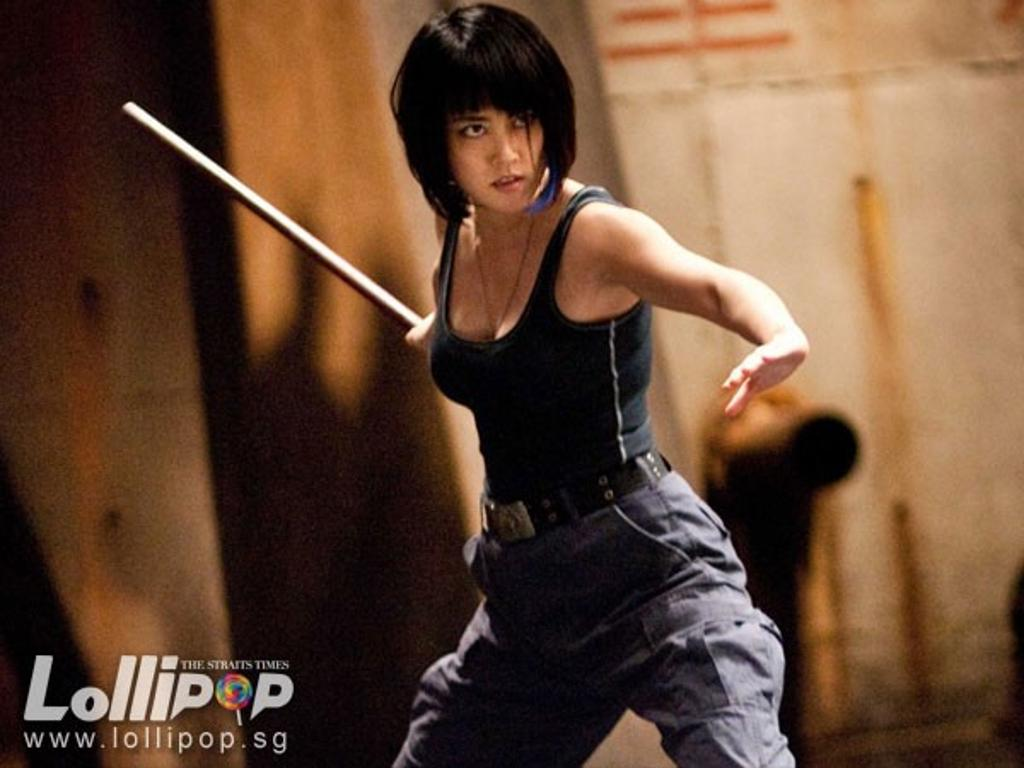face: (448, 82, 540, 214)
